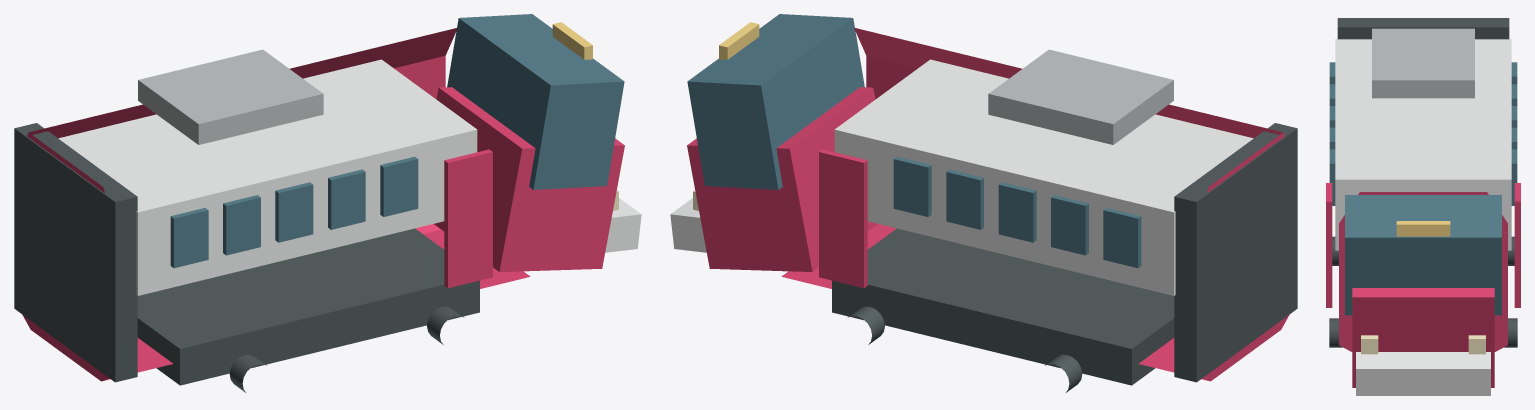
3 renders of one model, left to right at view 1: azimuth 30°, elevation 25°; view 2: azimuth 150°, elevation 25°; view 3: azimuth 270°, elevation 25°, orthographic. The views are drawn at different scales.
Parts seen in each view (by area): view 1: silver_window_ribbon, undercarriage, articulation_bellows, desiro_wraparound_mask, desiro_rounded_nose_lower, roof_hvac, desiro_red_chamfered_shell, desiro_door_1, window_0.72_2_1, window_0.72_0_1, window_0.72_4_1, window_0.72_3_1 (+5 smaller); view 2: silver_window_ribbon, undercarriage, articulation_bellows, desiro_wraparound_mask, desiro_rounded_nose_lower, roof_hvac, desiro_red_chamfered_shell, desiro_door_0, window_0.72_2_0, window_0.72_0_0, window_0.72_4_0, window_0.72_3_0 (+5 smaller); view 3: silver_window_ribbon, desiro_wraparound_mask, desiro_rounded_nose_lower, roof_hvac, desiro_white_chin, articulation_bellows, desiro_red_chamfered_shell, destination_display, desiro_door_0, desiro_door_1, headlight_0, headlight_1 (+4 smaller).
Boxes of the visible parts, left/top/right/bottom form: silver_window_ribbon: left=58, top=59, right=477, bottom=295; undercarriage: left=137, top=228, right=479, bottom=385; articulation_bellows: left=14, top=123, right=137, bottom=382; desiro_wraparound_mask: left=447, top=14, right=624, bottom=189; desiro_rounded_nose_lower: left=434, top=87, right=624, bottom=271; roof_hvac: left=138, top=49, right=323, bottom=144; desiro_red_chamfered_shell: left=22, top=27, right=530, bottom=381; desiro_door_1: left=444, top=149, right=492, bottom=288; window_0.72_2_1: left=275, top=182, right=313, bottom=242; window_0.72_0_1: left=170, top=208, right=208, bottom=268; window_0.72_4_1: left=380, top=156, right=418, bottom=216; window_0.72_3_1: left=328, top=169, right=365, bottom=229; silver_window_ribbon: left=834, top=59, right=1253, bottom=295; undercarriage: left=832, top=228, right=1174, bottom=385; articulation_bellows: left=1174, top=123, right=1297, bottom=382; desiro_wraparound_mask: left=687, top=14, right=864, bottom=189; desiro_rounded_nose_lower: left=687, top=87, right=877, bottom=271; roof_hvac: left=988, top=49, right=1173, bottom=144; desiro_red_chamfered_shell: left=781, top=27, right=1289, bottom=381; desiro_door_0: left=819, top=149, right=867, bottom=288; window_0.72_2_0: left=998, top=182, right=1036, bottom=242; window_0.72_0_0: left=1103, top=208, right=1141, bottom=268; window_0.72_4_0: left=893, top=156, right=931, bottom=216; window_0.72_3_0: left=946, top=169, right=983, bottom=229; silver_window_ribbon: left=1335, top=39, right=1511, bottom=250; desiro_wraparound_mask: left=1345, top=195, right=1501, bottom=315; desiro_rounded_nose_lower: left=1352, top=288, right=1494, bottom=387; roof_hvac: left=1372, top=28, right=1474, bottom=98; desiro_white_chin: left=1356, top=352, right=1490, bottom=395; articulation_bellows: left=1337, top=18, right=1509, bottom=39; desiro_red_chamfered_shell: left=1339, top=192, right=1507, bottom=351; destination_display: left=1396, top=221, right=1450, bottom=236; desiro_door_0: left=1514, top=183, right=1520, bottom=307; desiro_door_1: left=1326, top=183, right=1332, bottom=307; headlight_0: left=1468, top=335, right=1485, bottom=354; headlight_1: left=1361, top=335, right=1378, bottom=354.
Size of the model in its own units: 2.15 by 1 by 0.795.
